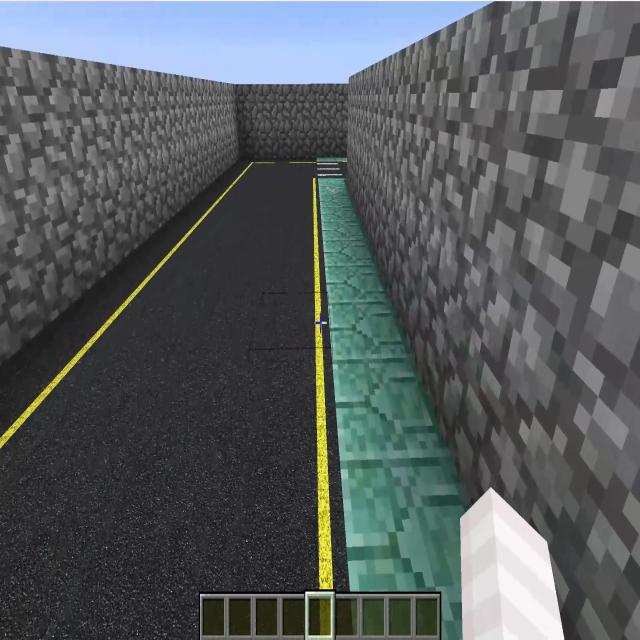crosswalk: (318, 165, 347, 178)
road: (0, 160, 348, 639)
sidewalk: (319, 181, 468, 639), (317, 157, 346, 163)
